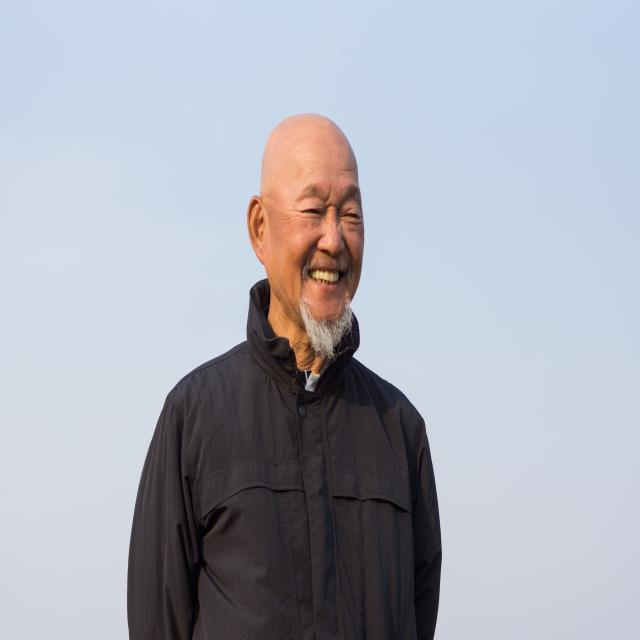Male: (266, 145, 364, 330)
